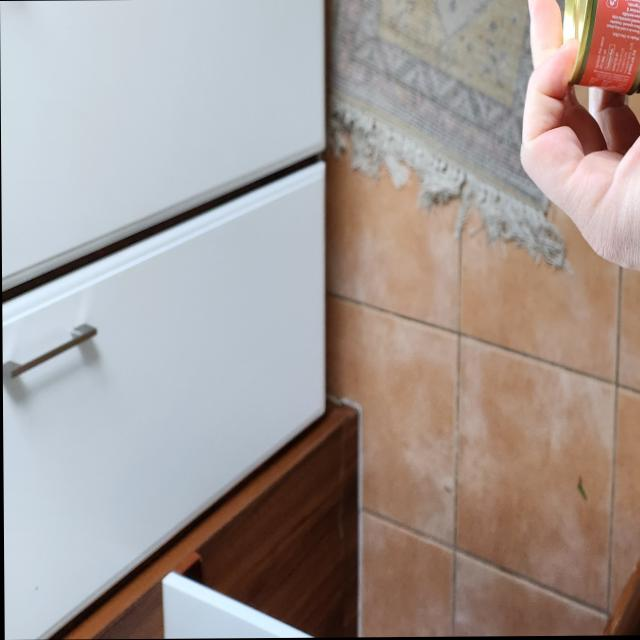salmon: (560, 0, 640, 94)
